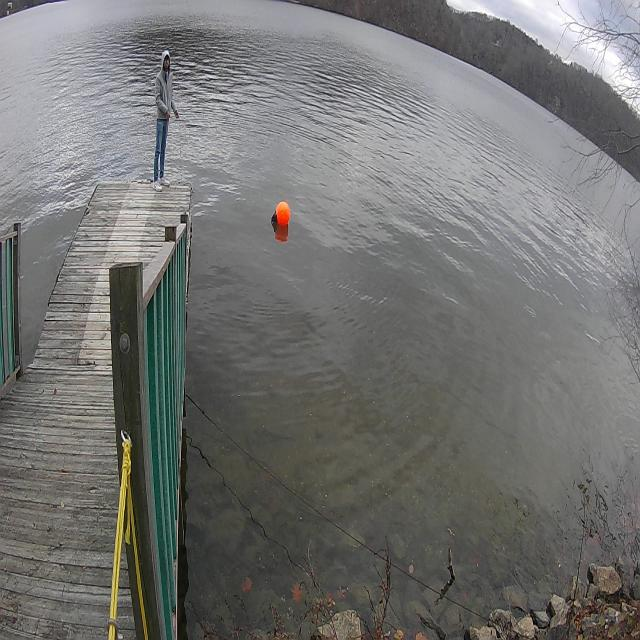Buoy: (268, 192, 296, 238)
